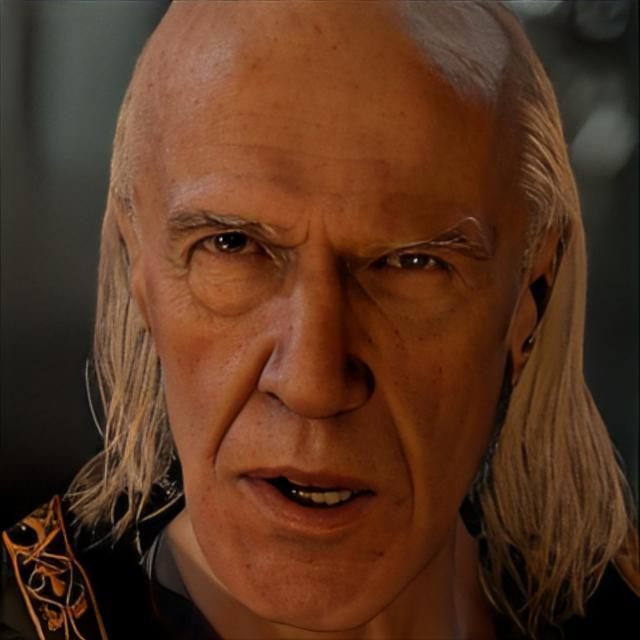disgust: (131, 0, 534, 634)
